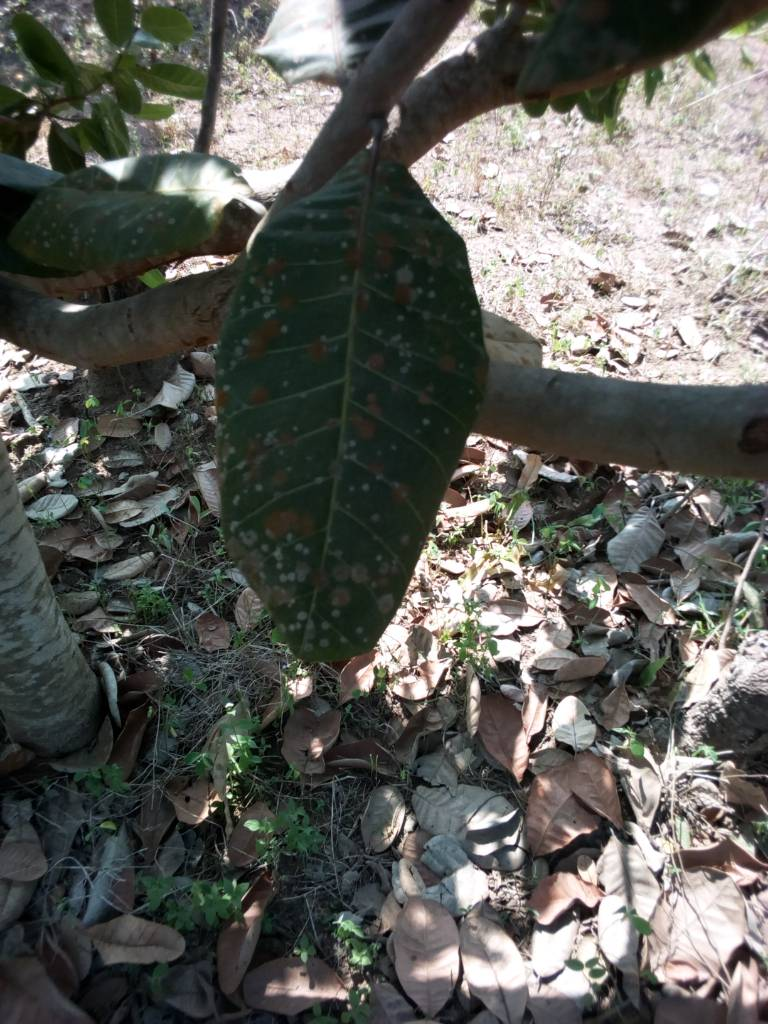Rouille: (215, 128, 508, 705)
